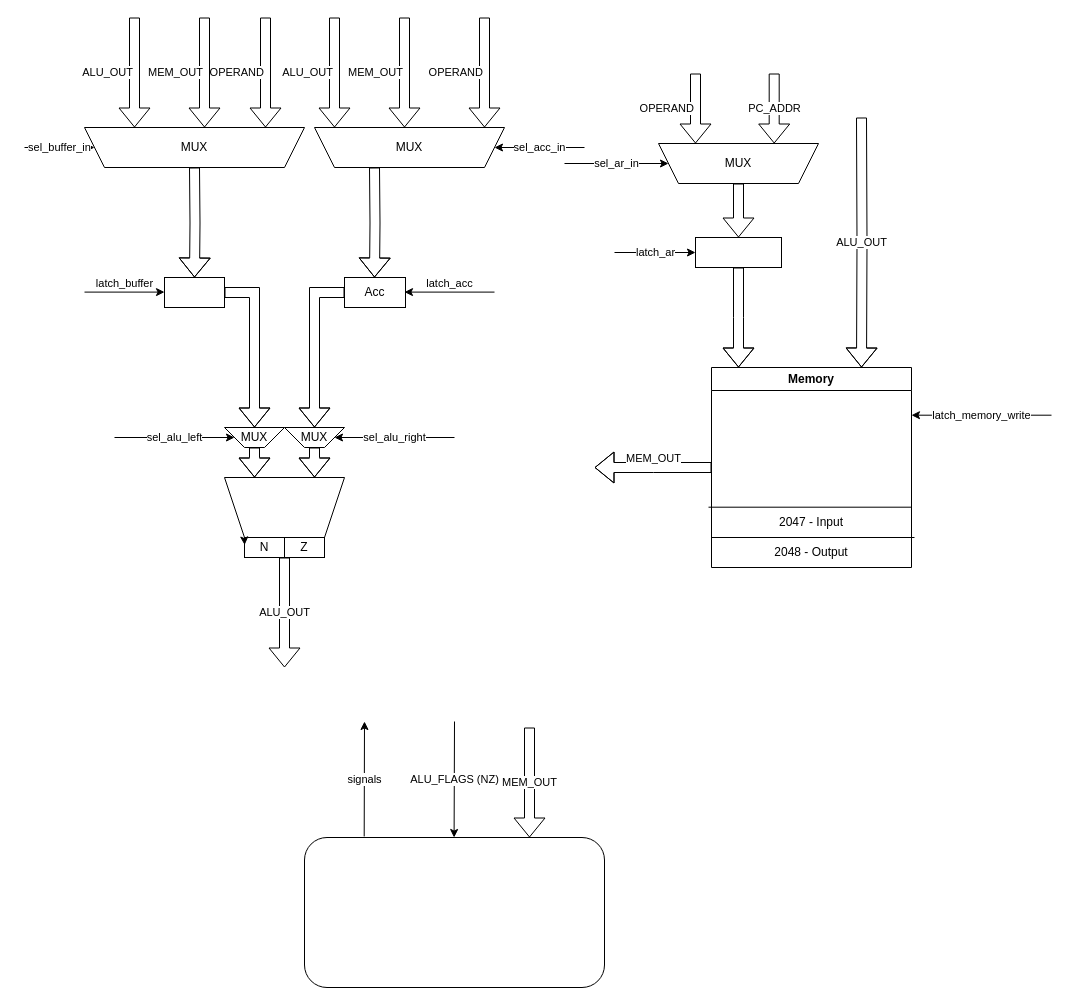
The diagram is 1077 pixels wide and 1005 high, and some of its shapes have lost their labels. Here are the shapes that lost their labels. From the top down, the centre of each, then its label:
At point (738, 252): "Adress Register".
At point (194, 292): "Buffer".
At point (284, 507): "ALU".
At point (454, 912): "Control Unit".
